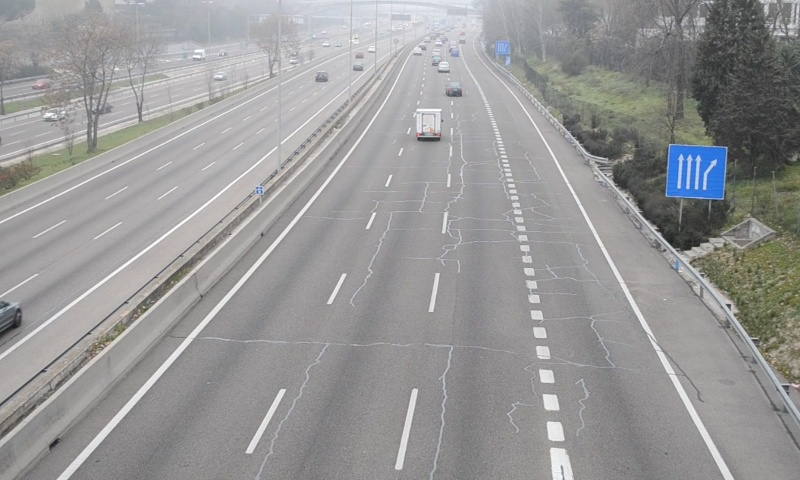car: (445, 80, 462, 97)
small-truck: (414, 108, 443, 138)
